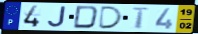4: (154, 7, 174, 30), (22, 5, 41, 28)
D: (72, 5, 100, 30), (98, 6, 125, 30)
J: (47, 6, 68, 28)
T: (130, 7, 151, 30)
